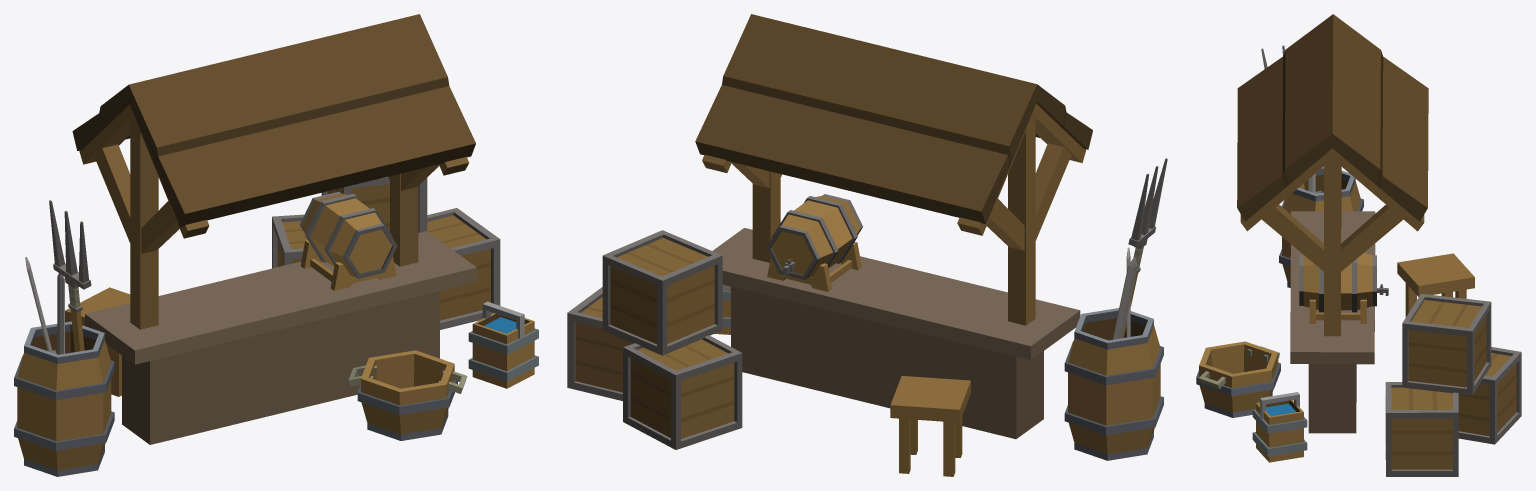
File: Stall_03.gltf
3 views of the same model, side by side, from view 1: azimuth 30°, elevation 25°; view 2: azimuth 150°, elevation 25°; view 3: azimuth 270°, elevation 25° (orthographic). The views are drawn at different scales.
Visible parts, largest first — view 1: SF_Bld_Stall_03; view 2: SF_Bld_Stall_03; view 3: SF_Bld_Stall_03.
Boxes of the visible parts, <box> form: SF_Bld_Stall_03: <box>14,14,538,476</box>; SF_Bld_Stall_03: <box>567,14,1167,476</box>; SF_Bld_Stall_03: <box>1196,14,1521,476</box>.
Bounding box in the file's own units: 0.0773 × 0.05 × 0.0496.
1 material, 1 textured.
